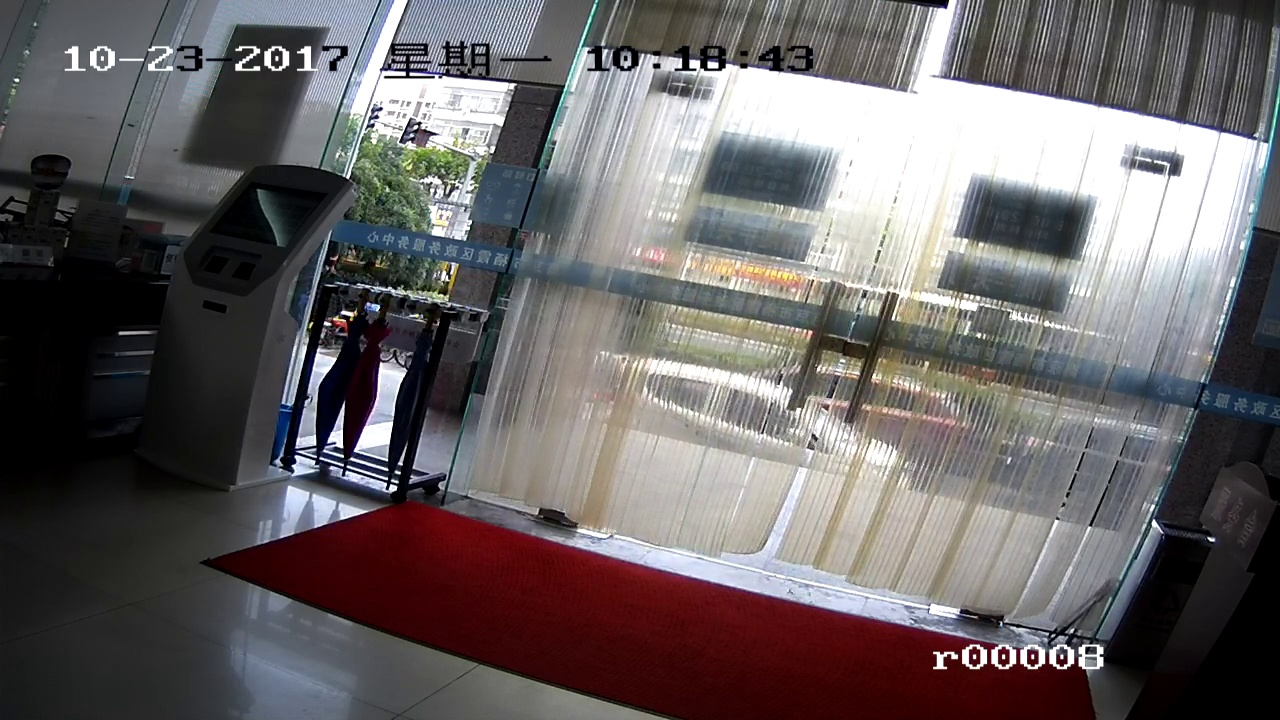monitor: (214, 178, 317, 259)
